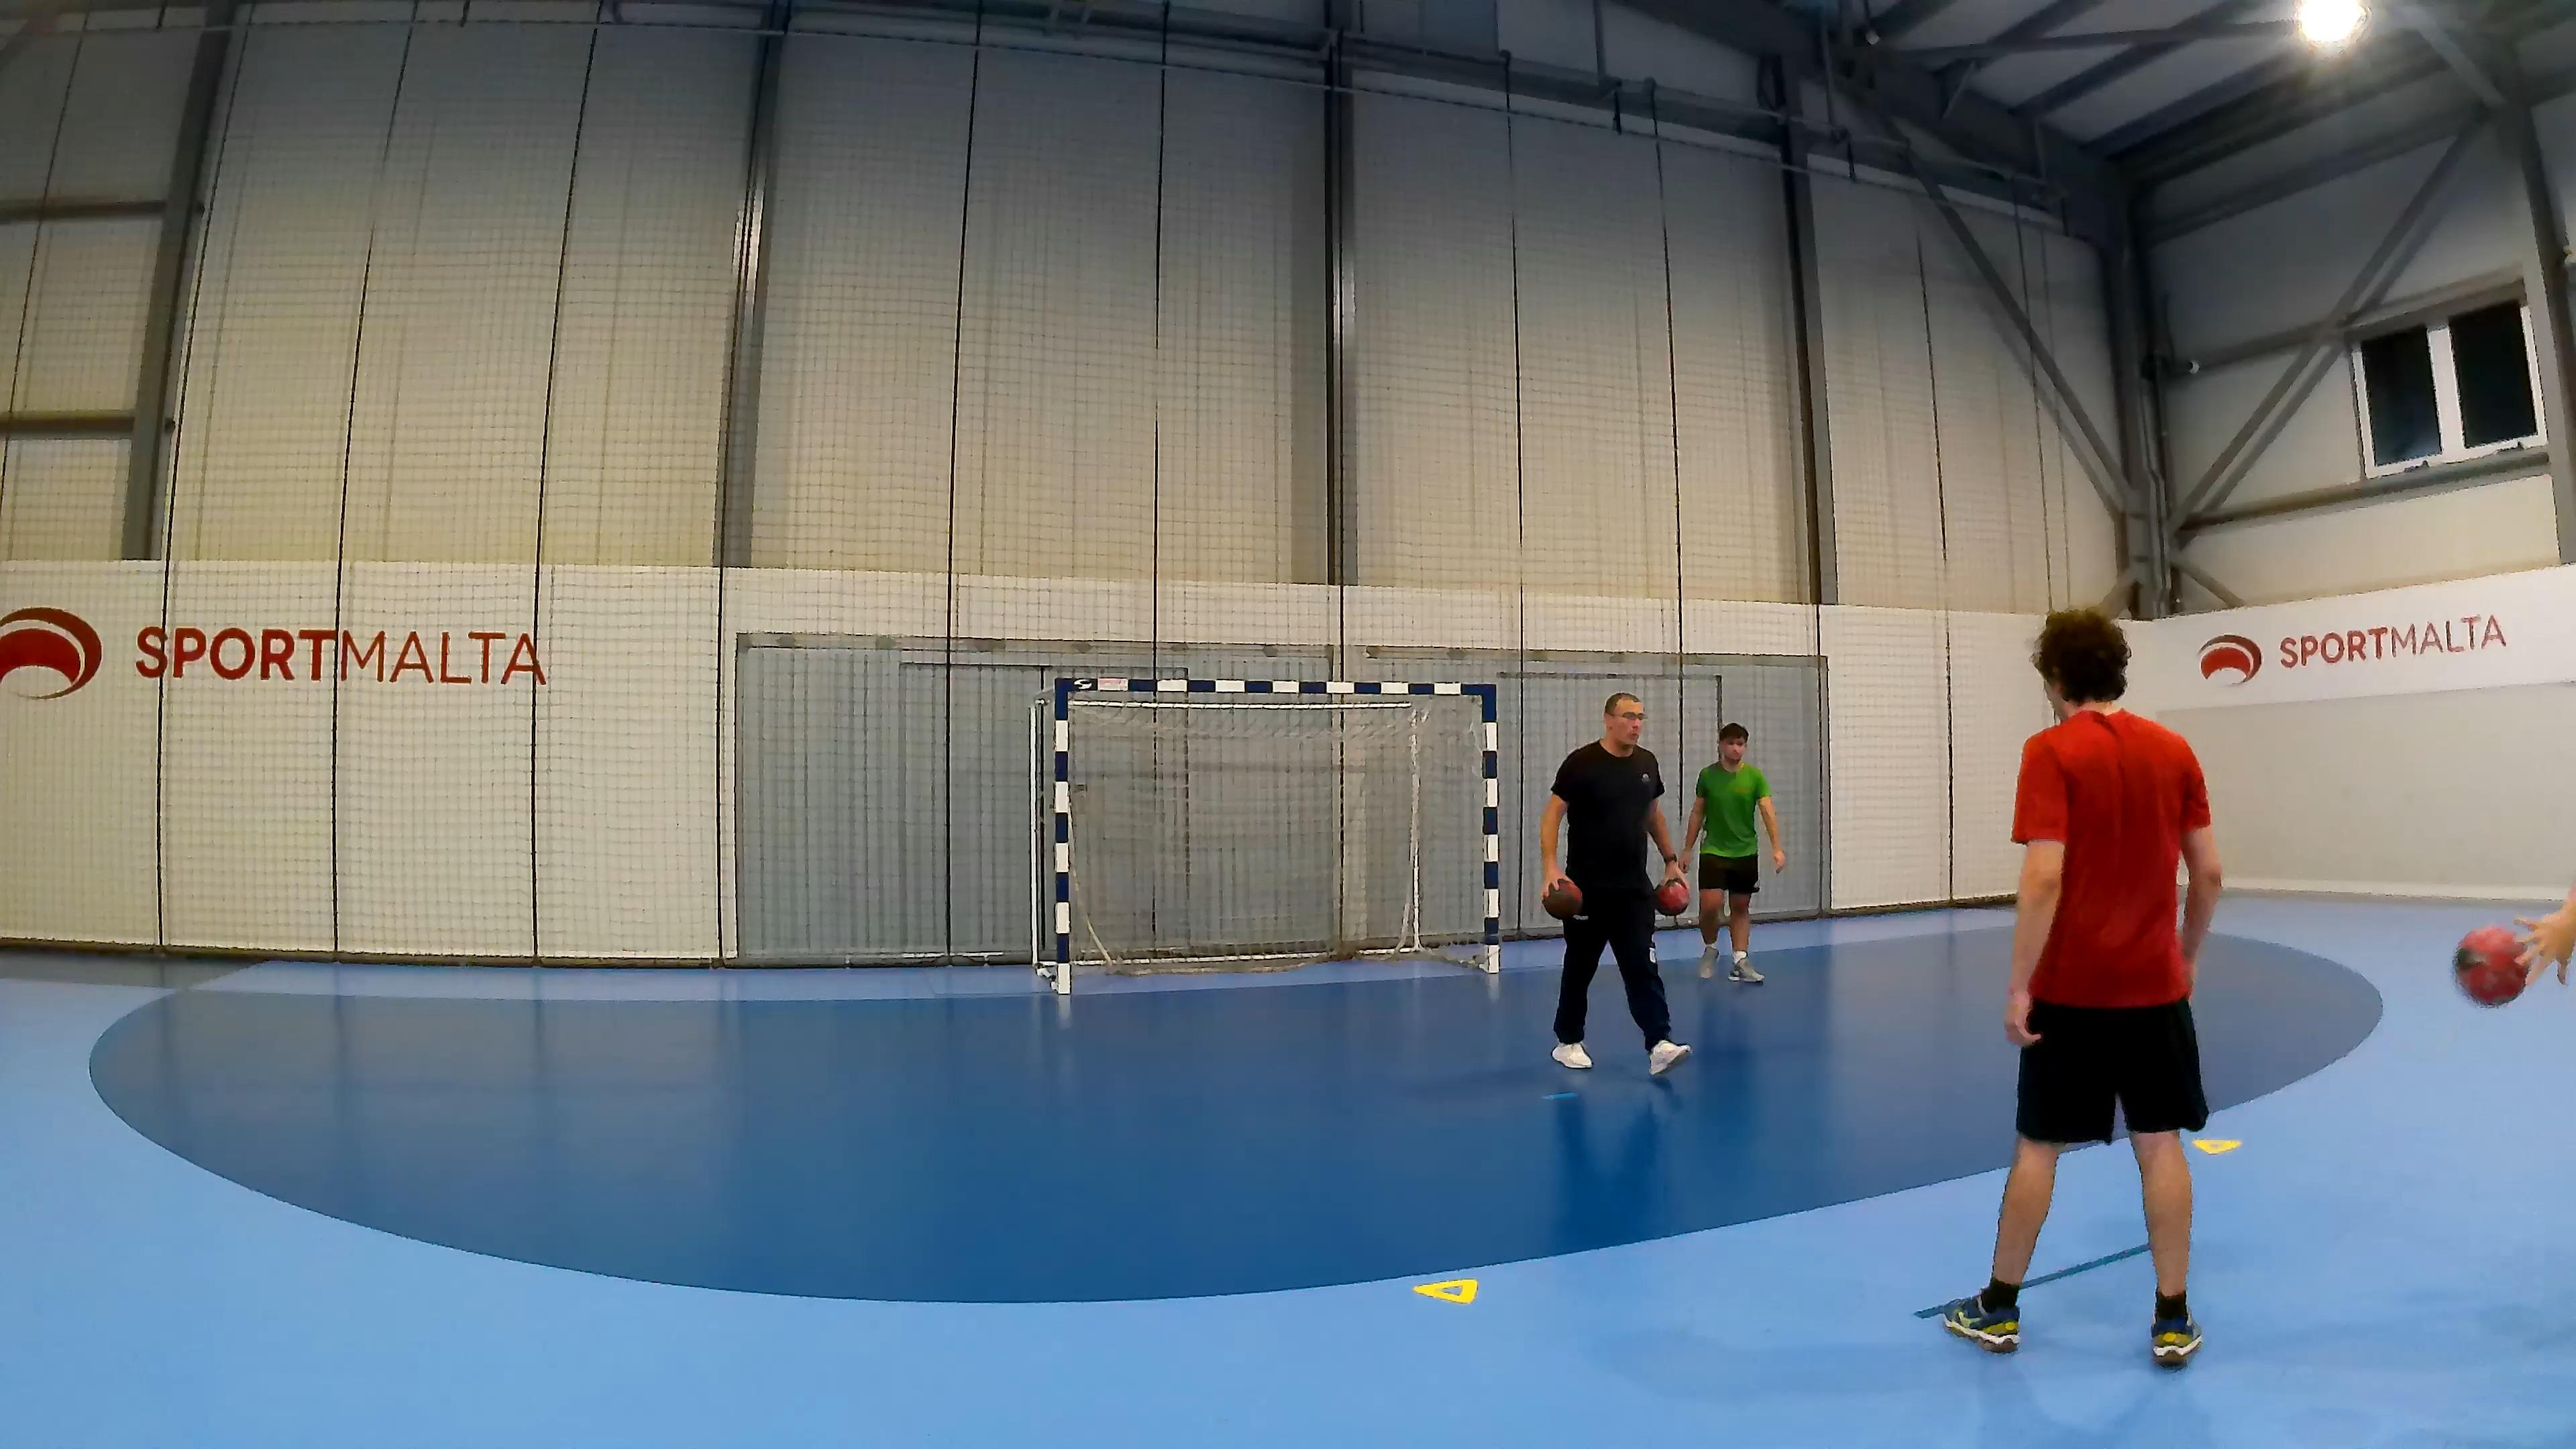handball: (2452, 924, 2530, 1007), (1541, 876, 1582, 918), (1652, 876, 1688, 915)
